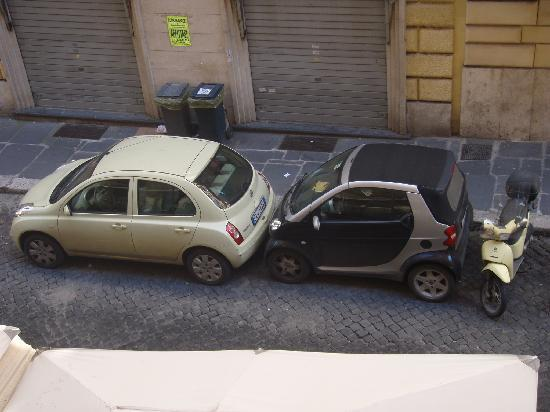car: (9, 132, 273, 283), (264, 143, 472, 303)
